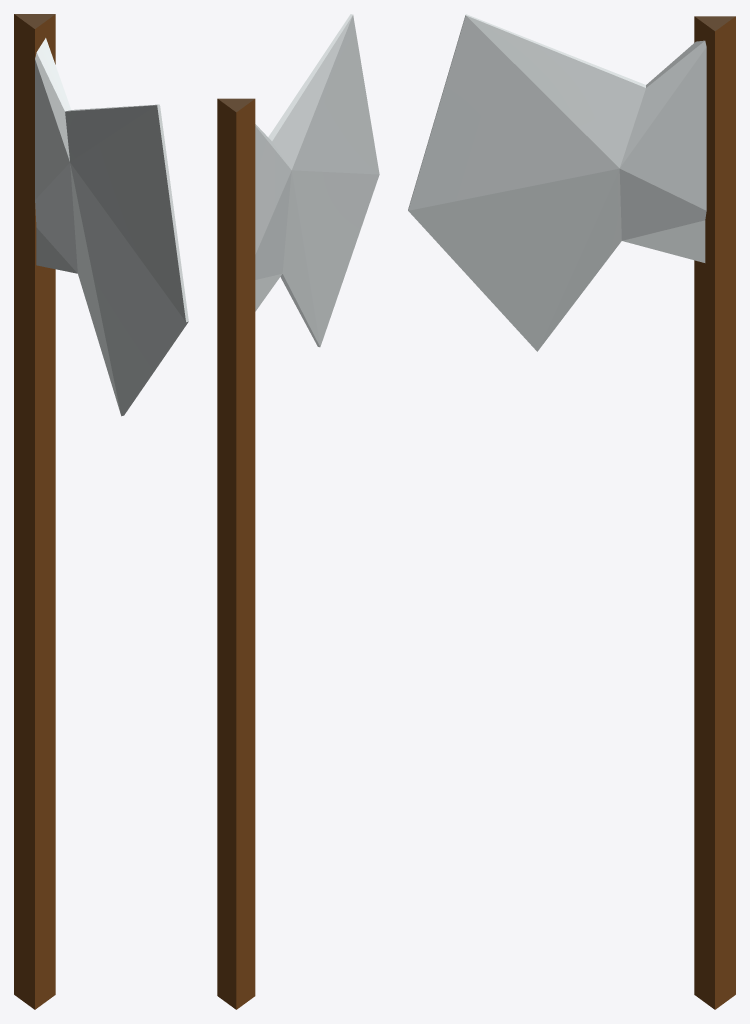
File: Axe.fbx
The picture shows the model from 3 angles, left to right: view 1: azimuth 30°, elevation 25°; view 2: azimuth 150°, elevation 25°; view 3: azimuth 270°, elevation 25°; orthographic projection. The views are drawn at different scales.
Visible parts, largest first — view 1: Axe; view 2: Axe; view 3: Axe.
Part boxes in pixels (x1,y1,x2,y2): Axe: (14,14,188,1009); Axe: (217,14,379,1009); Axe: (408,14,735,1009).
Size of the model in its own units: 1.61 by 45.27 by 13.66.
